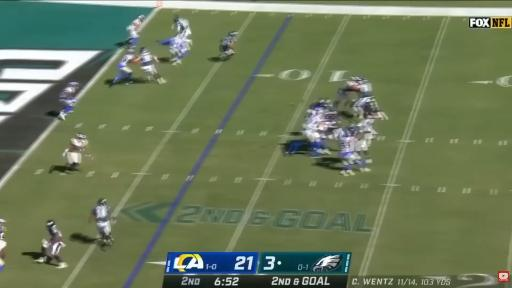Helmet: (347, 74, 359, 82), (98, 198, 107, 206), (46, 220, 56, 227), (138, 14, 145, 21), (230, 31, 237, 38), (328, 111, 336, 117), (77, 133, 86, 138), (320, 99, 329, 104), (68, 83, 79, 87), (140, 48, 147, 53), (172, 17, 179, 22), (128, 50, 134, 55), (363, 77, 368, 82)
Jersey: (59, 86, 77, 106), (339, 131, 354, 153), (92, 205, 109, 222), (127, 19, 141, 38), (69, 138, 88, 152), (48, 225, 62, 243), (358, 119, 375, 133), (221, 36, 235, 51), (118, 54, 134, 67), (141, 50, 153, 67), (59, 86, 76, 98), (176, 19, 189, 34)
Player: (356, 104, 382, 163), (36, 220, 67, 268), (339, 126, 369, 175), (353, 83, 389, 119), (89, 199, 114, 245), (136, 48, 166, 83), (158, 36, 191, 65), (63, 133, 88, 171), (111, 49, 135, 86), (58, 82, 78, 120), (127, 15, 145, 48), (339, 83, 360, 111), (170, 36, 190, 65), (220, 32, 238, 60), (174, 16, 191, 39), (0, 218, 6, 271)
